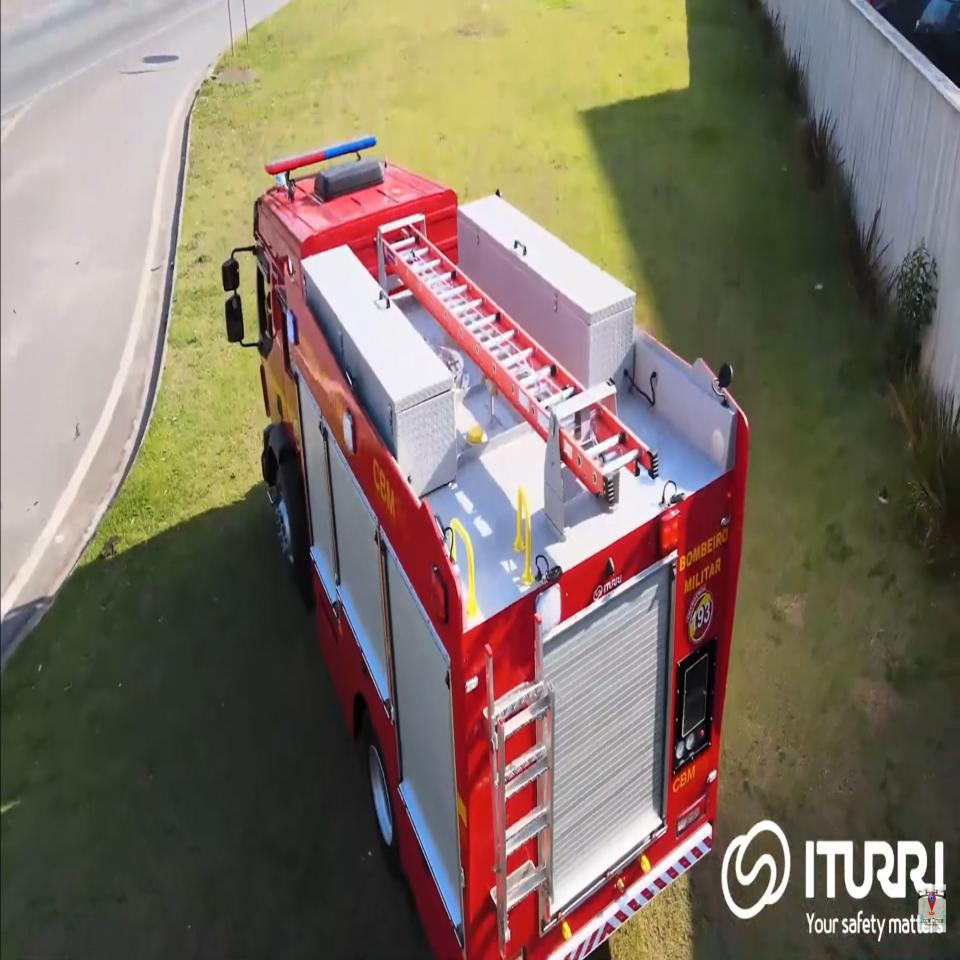viatura: (221, 133, 751, 960)
